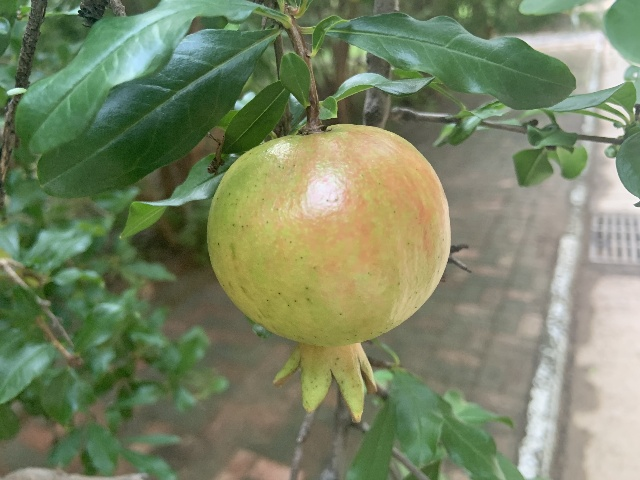mid-growth: (207, 123, 453, 422)
